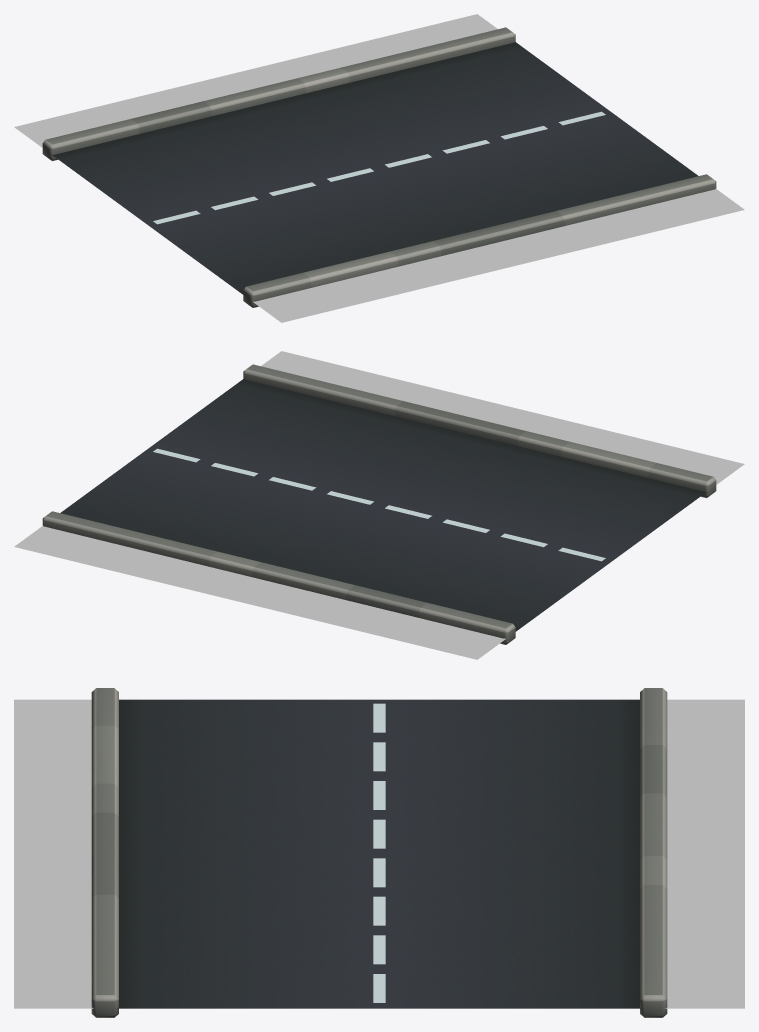
The model's file is road_section_x8.fbx.
3 views of the same model, one above another, from view 1: azimuth 30°, elevation 25°; view 2: azimuth 150°, elevation 25°; view 3: azimuth 270°, elevation 25° (orthographic). The views are drawn at different scales.
Visible parts, largest first — view 1: road_section_x8, road_section_x8_sidewalk; view 2: road_section_x8, road_section_x8_sidewalk; view 3: road_section_x8, road_section_x8_sidewalk.
Part boxes in pixels (x1,y1,x2,y2): road_section_x8: (42, 27, 716, 307); road_section_x8_sidewalk: (14, 14, 744, 322); road_section_x8: (42, 364, 716, 644); road_section_x8_sidewalk: (14, 351, 744, 659); road_section_x8: (91, 688, 667, 1017); road_section_x8_sidewalk: (14, 699, 744, 1008).
Size of the model in its own units: 1610 by 55 by 1600.
